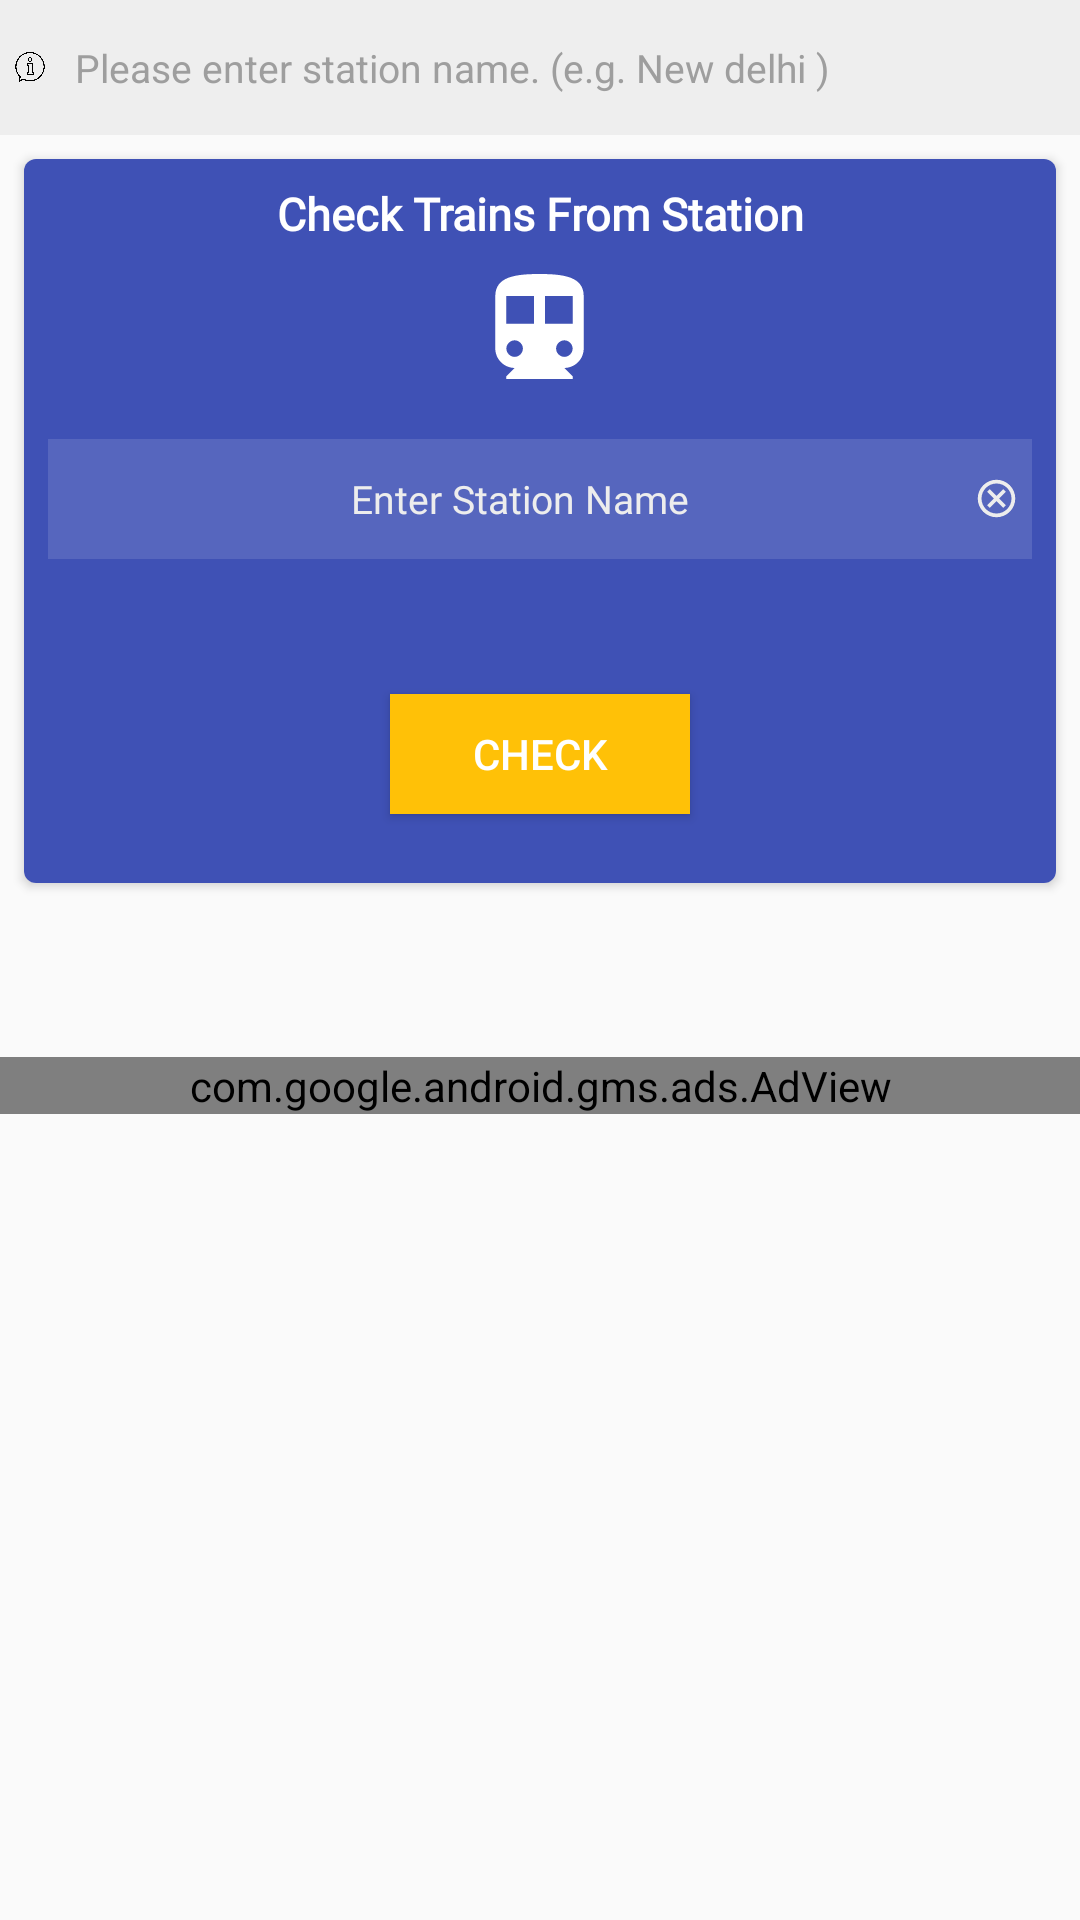

Where icons sit on this 1080x1920 app screen, as rect(x1, y1, x2, y2):
cancel: rect(977, 479, 1016, 518)
help: rect(15, 52, 45, 82)
